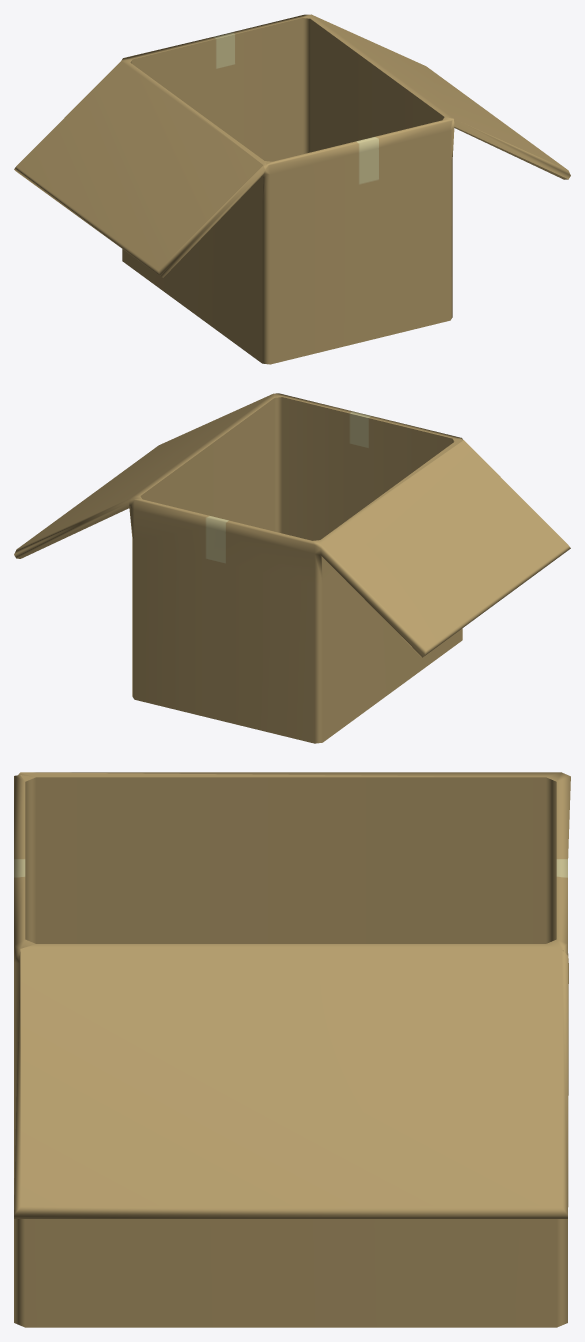
File: Doos_Flaps.fbx
3 renders of one model, top to bottom at view 1: azimuth 30°, elevation 25°; view 2: azimuth 150°, elevation 25°; view 3: azimuth 270°, elevation 25°, orthographic. The views are drawn at different scales.
Visible parts, largest first — view 1: Doos_Flaps; view 2: Doos_Flaps; view 3: Doos_Flaps.
Part boxes in pixels (x1,y1,x2,y2): Doos_Flaps: (14,14,570,364); Doos_Flaps: (14,393,570,743); Doos_Flaps: (14,772,570,1327).
Size of the model in its own units: 61.92 by 28.71 by 38.24.
1 material, 1 textured.
